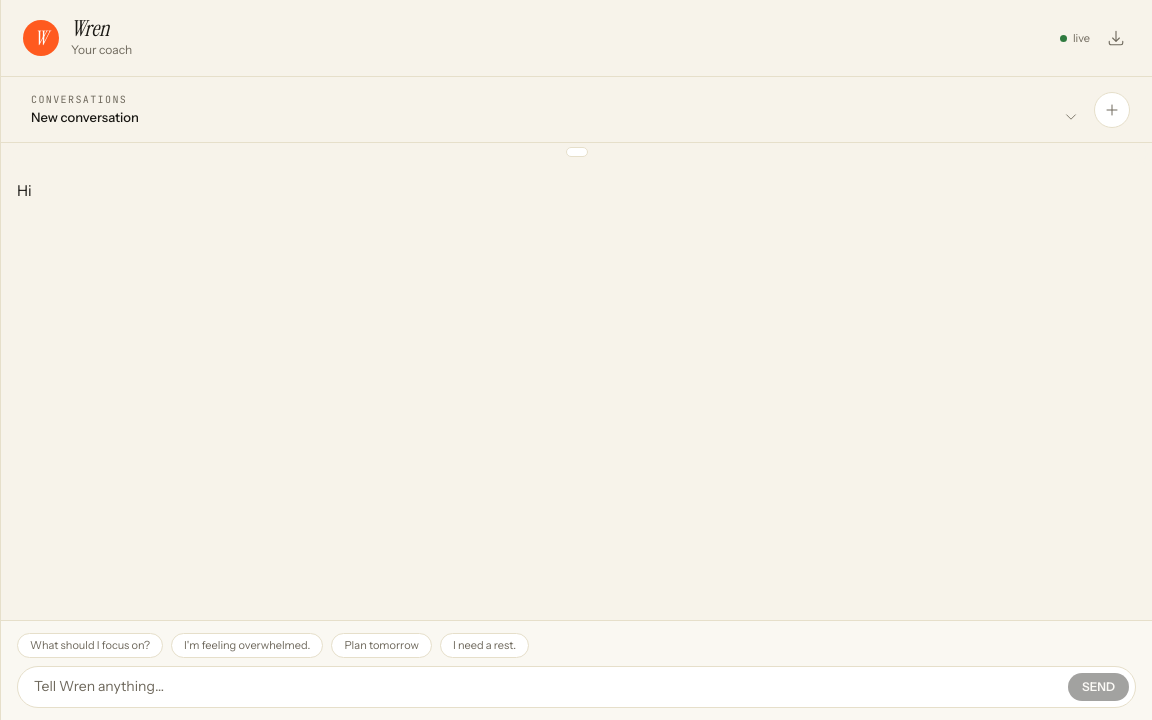
it: WrenPanel › fillFromChip via WrenBubble action › WrenBubble @action fills the draft input
Step 1. Click the text with class "wren-bubble-stub" → (24, 191), box left=17, top=181, right=32, bottom=200
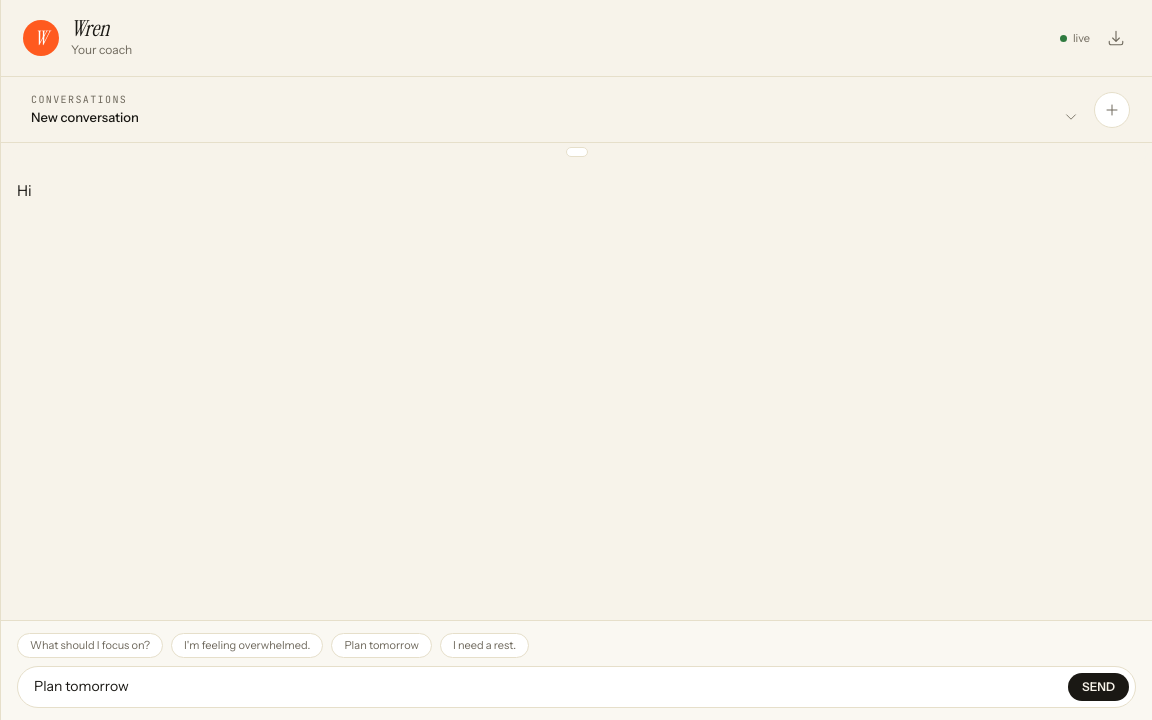
Check: the field with class "wren-panel__input" holds "Plan tomorrow", box left=34, top=678, right=1060, bottom=696
